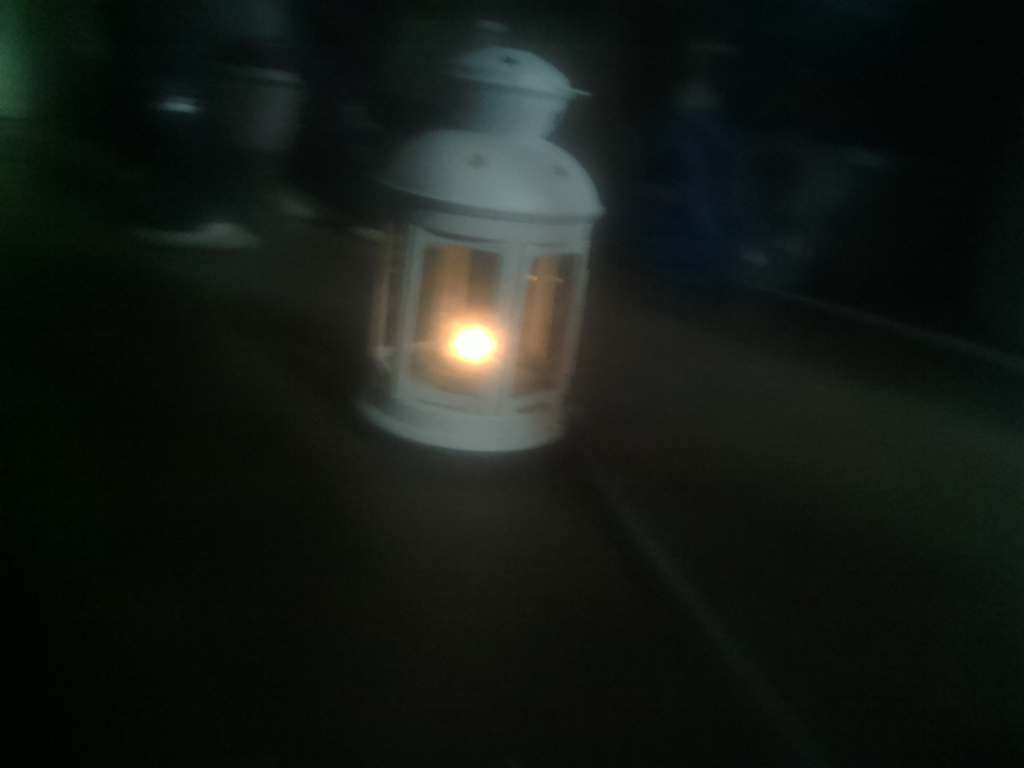fire: (423, 309, 500, 393)
